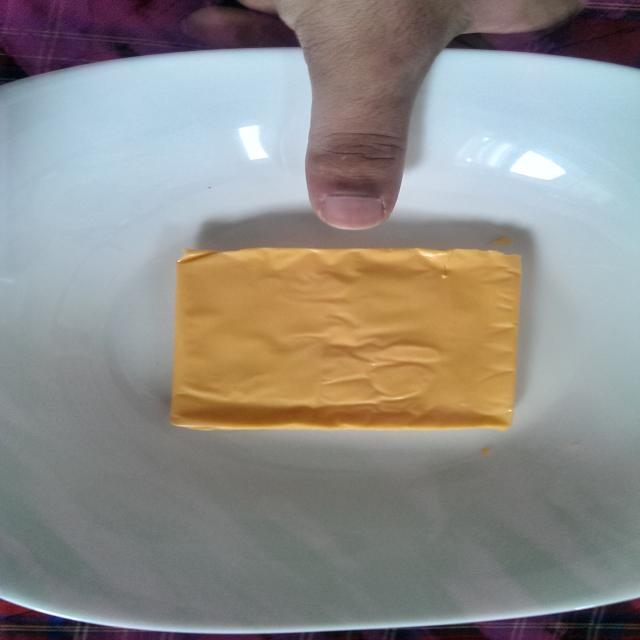cheese: (145, 226, 521, 556)
